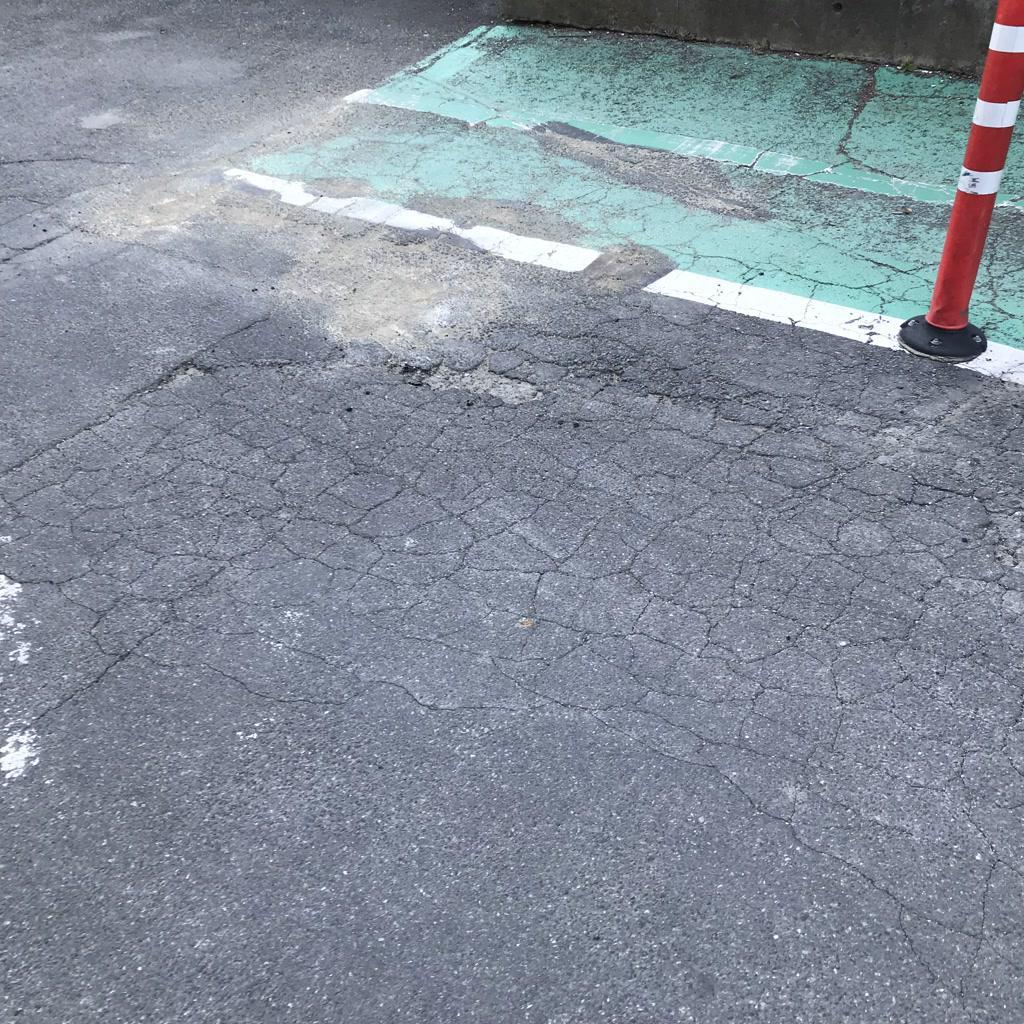D20: (0, 387, 1023, 947)
D40: (374, 340, 577, 437), (139, 339, 229, 401)
